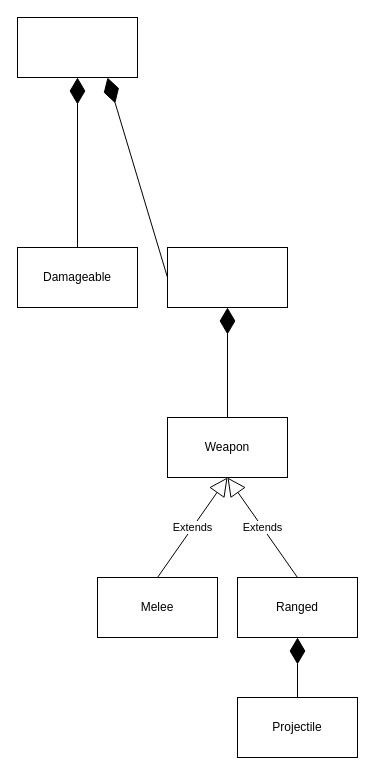
The diagram is 375 pixels wide and 775 high, and some of its shapes have lost their labels. The shapes that lost their labels are listed below. From the top down, each one's box as (x1, y1, x2, y2) in pixels, then its label:
(16, 16, 138, 78): Unit
(166, 246, 288, 308): Damager
